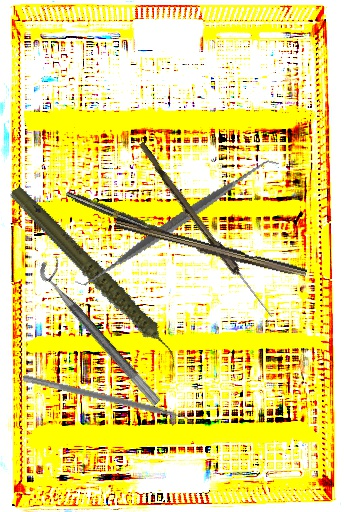Fixation Ring: (34, 253, 173, 407)
Handpiece: (7, 160, 182, 396), (64, 188, 182, 247)
Scalpel Handle: (113, 218, 308, 281)
Spatula Surgical: (74, 117, 280, 328), (20, 374, 196, 428)
Surgical Spoon: (134, 141, 277, 320)
